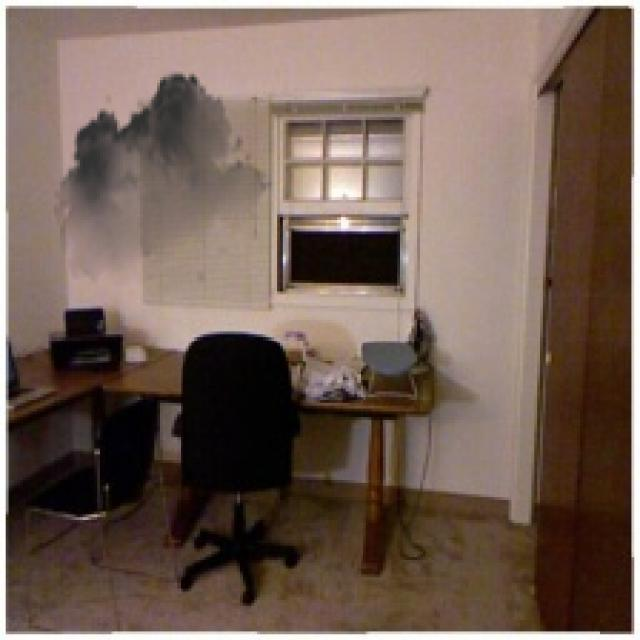Smoke: (54, 63, 274, 294)
